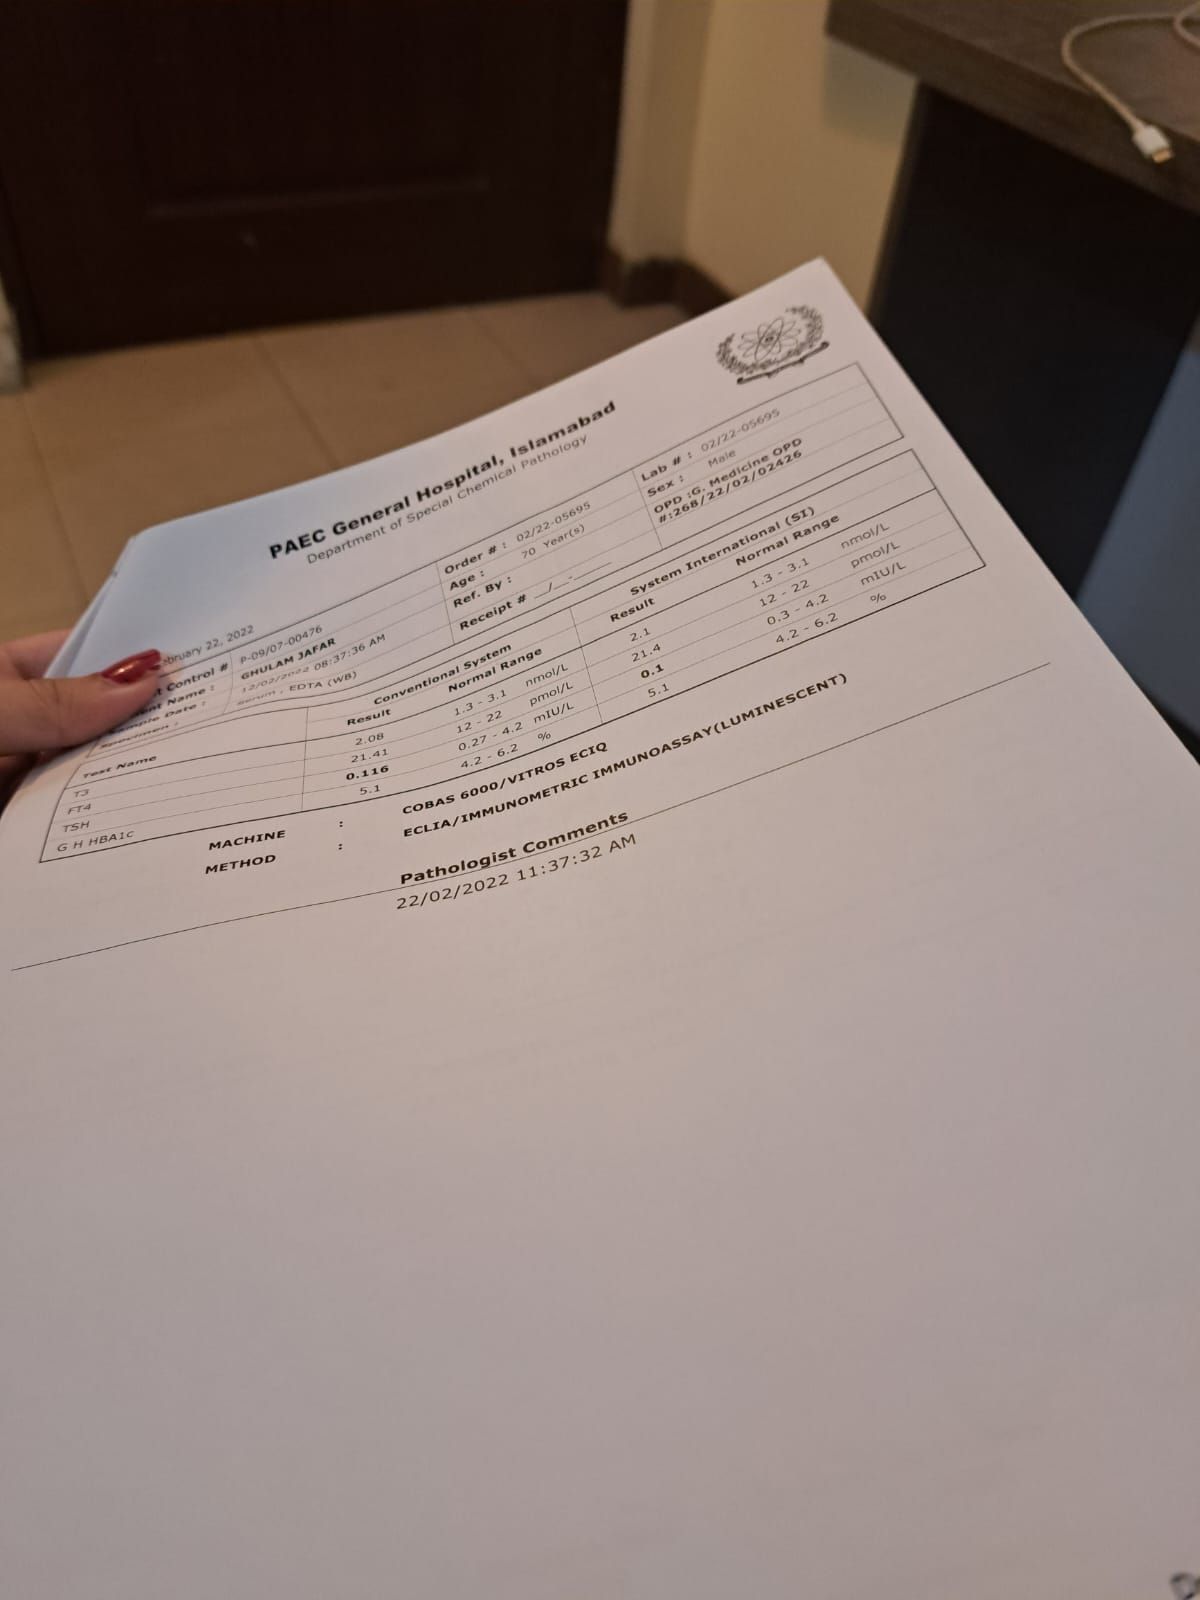report: (43, 449, 987, 860)
